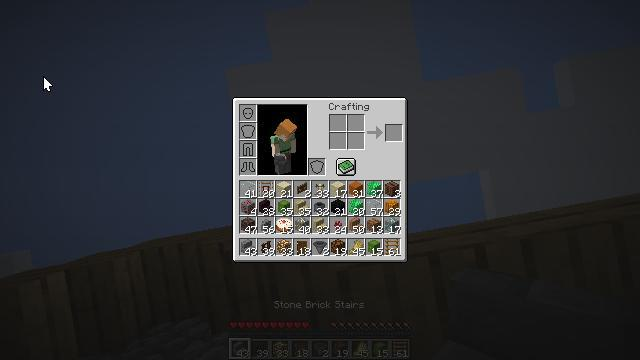cursor: (43, 76, 53, 92)
